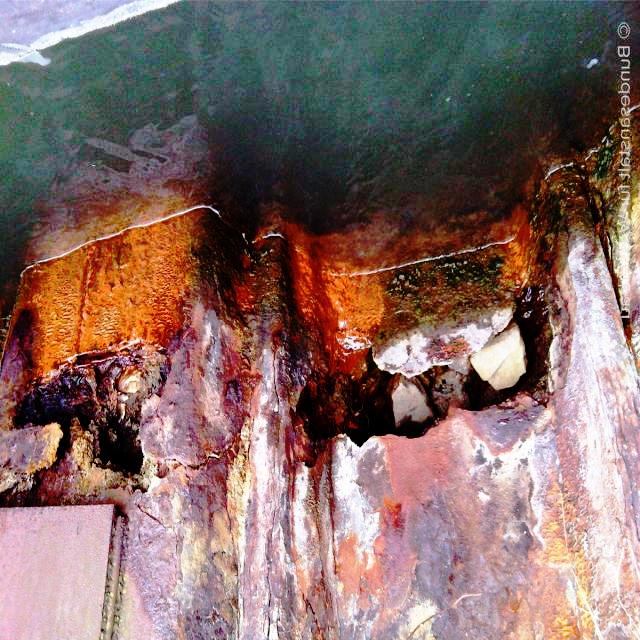Corrosion: (0, 99, 640, 640)
